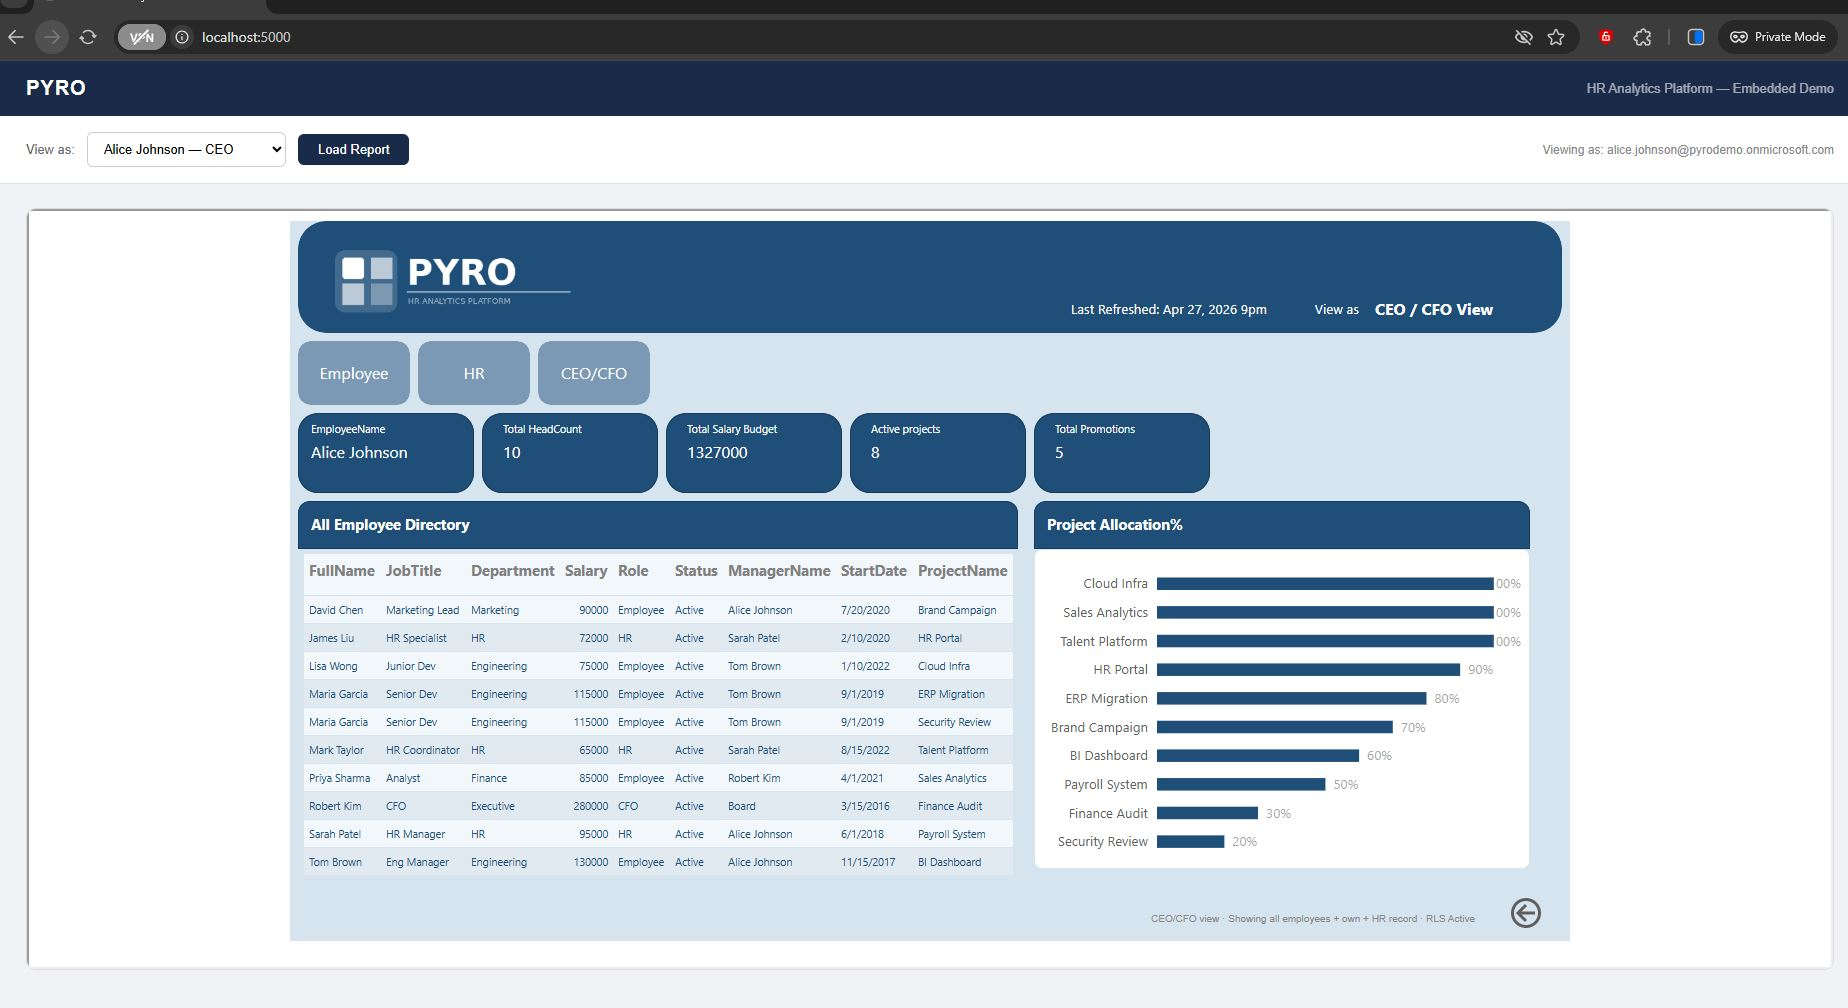

Layout of this report page (visuals, bound fields, positions):
{"tool":"powerbi","page":{"name":"CEO/CFO","canvas":[1280,720],"ordinal":3},"visuals":[{"type":"textbox","box":[1016,72,64,32],"z":0,"group":"g3"},{"type":"group","id":"g1","title":"Group 1","box":[8,280,720,48],"z":0,"group":"g5"},{"type":"shape","box":[8,280,720,48],"z":0,"group":"g1"},{"type":"shape","box":[744,280,496,48],"z":0,"group":"g4"},{"type":"multiRowCard","fields":{"Values":["_Measure.Current Role"]},"box":[1080,72,168,32],"z":1000,"group":"g3"},{"type":"shape","box":[8,192,176,80],"z":1000,"group":"g5"},{"type":"shape","box":[8,0,1264,112],"z":2000},{"type":"image","box":[40,0,318.5,120],"z":3000},{"type":"actionButton","box":[8,120,112,64],"z":4000,"group":"g2"},{"type":"textbox","box":[16,288,208,40],"z":4000,"group":"g5"},{"type":"textbox","box":[776,72,216,48],"z":5000,"group":"g5"},{"type":"actionButton","box":[128,120,112,64],"z":5000,"group":"g2"},{"type":"group","id":"g2","title":"Group 1","box":[8,120,352,64],"z":6000,"group":"g5"},{"type":"actionButton","box":[248,120,112,64],"z":6000,"group":"g2"},{"type":"group","id":"g3","title":"Group 2","box":[1016,72,232,32],"z":7000,"group":"g5"},{"type":"shape","box":[192,192,176,80],"z":8000,"group":"g5"},{"type":"shape","box":[376,192,176,80],"z":9000,"group":"g5"},{"type":"shape","box":[560,192,176,80],"z":10000,"group":"g5"},{"type":"multiRowCard","title":"EmployeeName","fields":{"Values":["_Measure.Employee Name cardMy Name"]},"box":[16,200,144,56],"z":11000,"group":"g5"},{"type":"multiRowCard","title":"Total HeadCount","fields":{"Values":["_Measure.Total Headcount"]},"box":[208,200,152,56],"z":12000,"group":"g5"},{"type":"multiRowCard","title":"Total Salary Budget","fields":{"Values":["_Measure.Total Salary Budget"]},"box":[392,200,152,56],"z":13000,"group":"g5"},{"type":"multiRowCard","title":"Active projects","fields":{"Values":["_Measure.Active Projects"]},"box":[576,200,152,56],"z":14000,"group":"g5"},{"type":"shape","box":[744,192,176,80],"z":15000,"group":"g5"},{"type":"multiRowCard","title":"Total Promotions","fields":{"Values":["_Measure.Total Promotions"]},"box":[760,200,152,56],"z":16000,"group":"g5"},{"type":"tableEx","title":"My Projects","fields":{"Values":["Employees.FullName","Employees.JobTitle","Employees.Department","Sum(Employees.Salary)","Employees.Role","Employees.Status","Employees.ManagerName","Employees.StartDate","Projects.ProjectName"]},"box":[8,328,728,360],"z":17000,"group":"g5"},{"type":"group","id":"g4","title":"Group 1","box":[744,280,496,48],"z":18000,"group":"g5"},{"type":"textbox","box":[752,288,352,152],"z":19000,"group":"g5"},{"type":"clusteredBarChart","fields":{"Y":["Sum(Projects.AllocationPct)"],"Category":["Projects.ProjectName"]},"box":[744,328,496,320],"z":20000,"group":"g5"},{"type":"textbox","box":[856,680,424,32],"z":21000},{"type":"actionButton","box":[1216,672,64,40],"z":22000},{"type":"group","id":"g5","title":"Group 3","box":[8,72,1240,616],"z":22001}]}

Visuals, with their boxes on the page's 1280x720 design canvas (x1, y1, x2, y2). These are canvas units, not pixel positions in the 1848x1008 screenshot, which may show the page scaled, cropped or inside an application window:
textbox: 1016,72,1080,104
"Group 1" group: 8,280,728,328
shape: 8,280,728,328
shape: 744,280,1240,328
multiRowCard - _Measure.Current Role: 1080,72,1248,104
shape: 8,192,184,272
shape: 8,0,1272,112
image: 40,0,358,120
actionButton: 8,120,120,184
textbox: 16,288,224,328
textbox: 776,72,992,120
actionButton: 128,120,240,184
"Group 1" group: 8,120,360,184
actionButton: 248,120,360,184
"Group 2" group: 1016,72,1248,104
shape: 192,192,368,272
shape: 376,192,552,272
shape: 560,192,736,272
"EmployeeName" multiRowCard: 16,200,160,256
"Total HeadCount" multiRowCard: 208,200,360,256
"Total Salary Budget" multiRowCard: 392,200,544,256
"Active projects" multiRowCard: 576,200,728,256
shape: 744,192,920,272
"Total Promotions" multiRowCard: 760,200,912,256
"My Projects" tableEx: 8,328,736,688
"Group 1" group: 744,280,1240,328
textbox: 752,288,1104,440
clusteredBarChart - Sum(Projects.AllocationPct) x Projects.ProjectName: 744,328,1240,648
textbox: 856,680,1280,712
actionButton: 1216,672,1280,712
"Group 3" group: 8,72,1248,688
